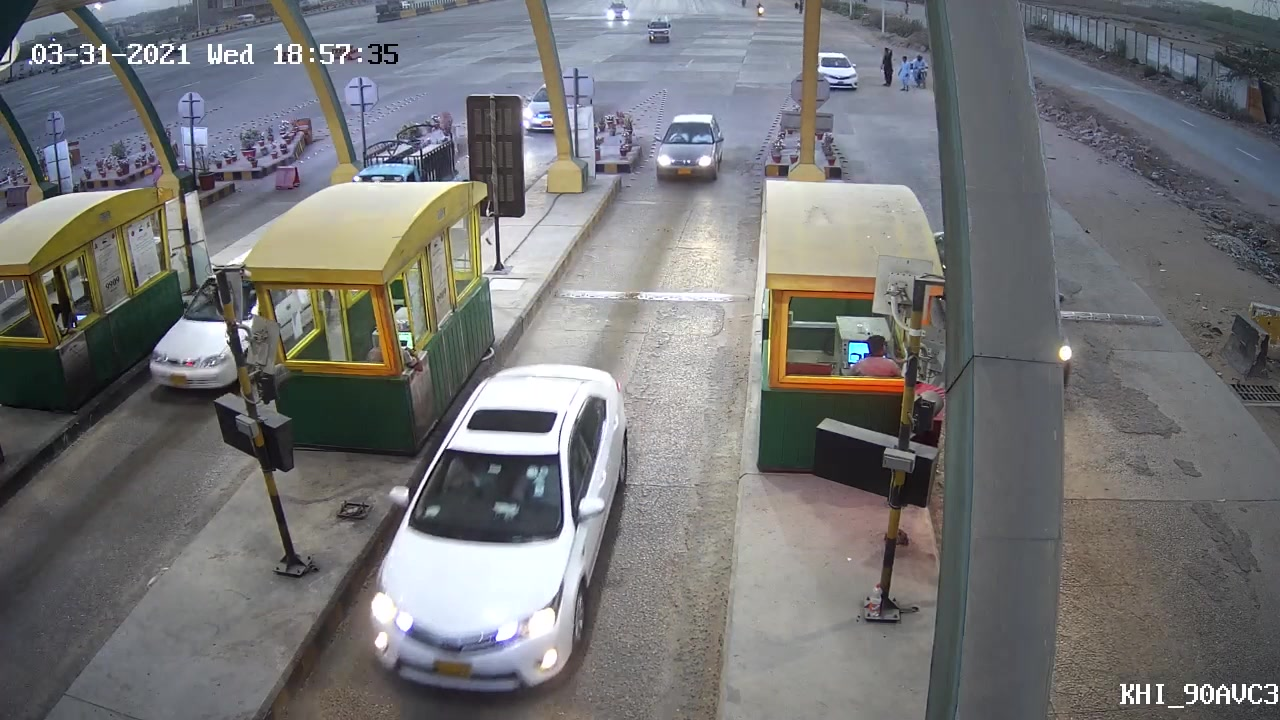F1: (367, 365, 629, 695)
